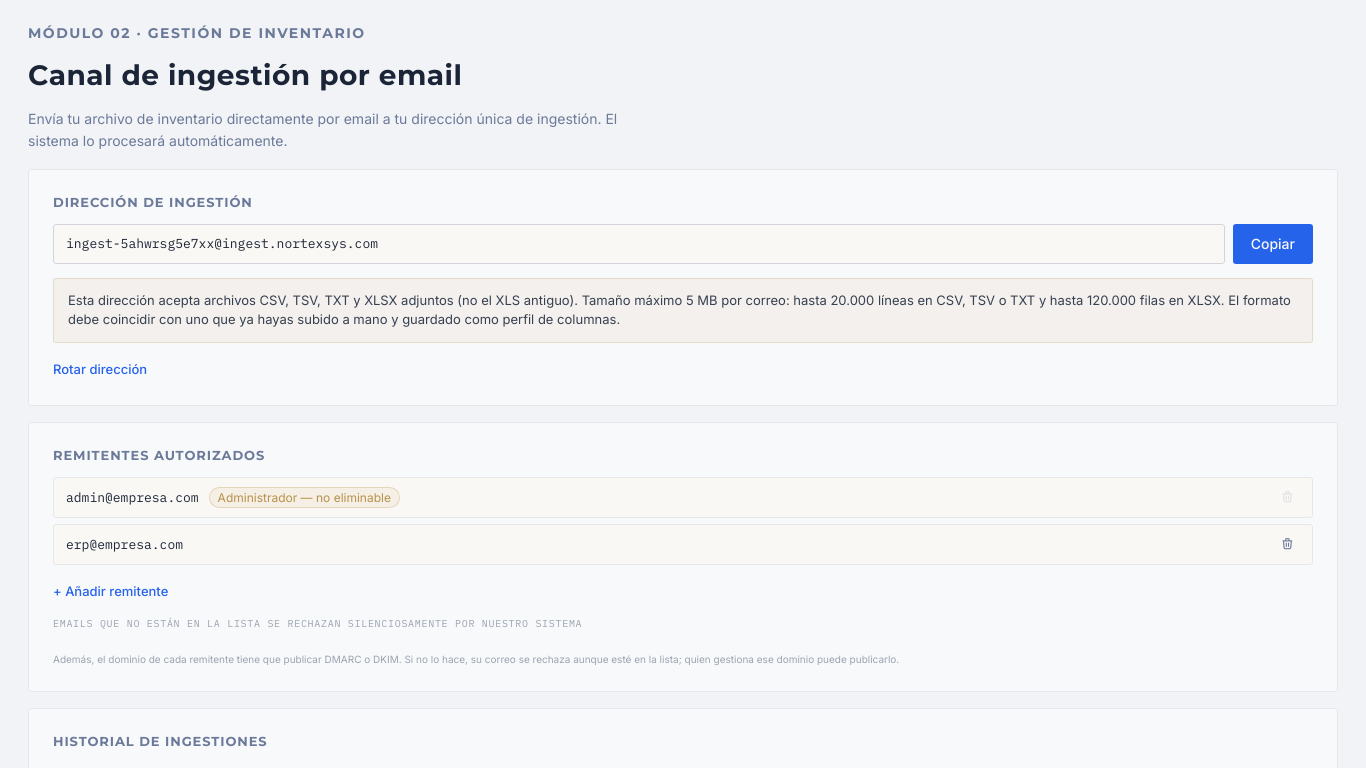
it: INV-04 · IngestChannel › añadir un remitente: valida el formato antes de ir a la red
Expected: the field with test id "ingest-address" is shown, x1=53 y1=224 x2=1225 y2=264
Step 1. Click the button "+ Añadir remitente" → {"x": 111, "y": 591}, box x1=53 y1=579 x2=168 y2=603
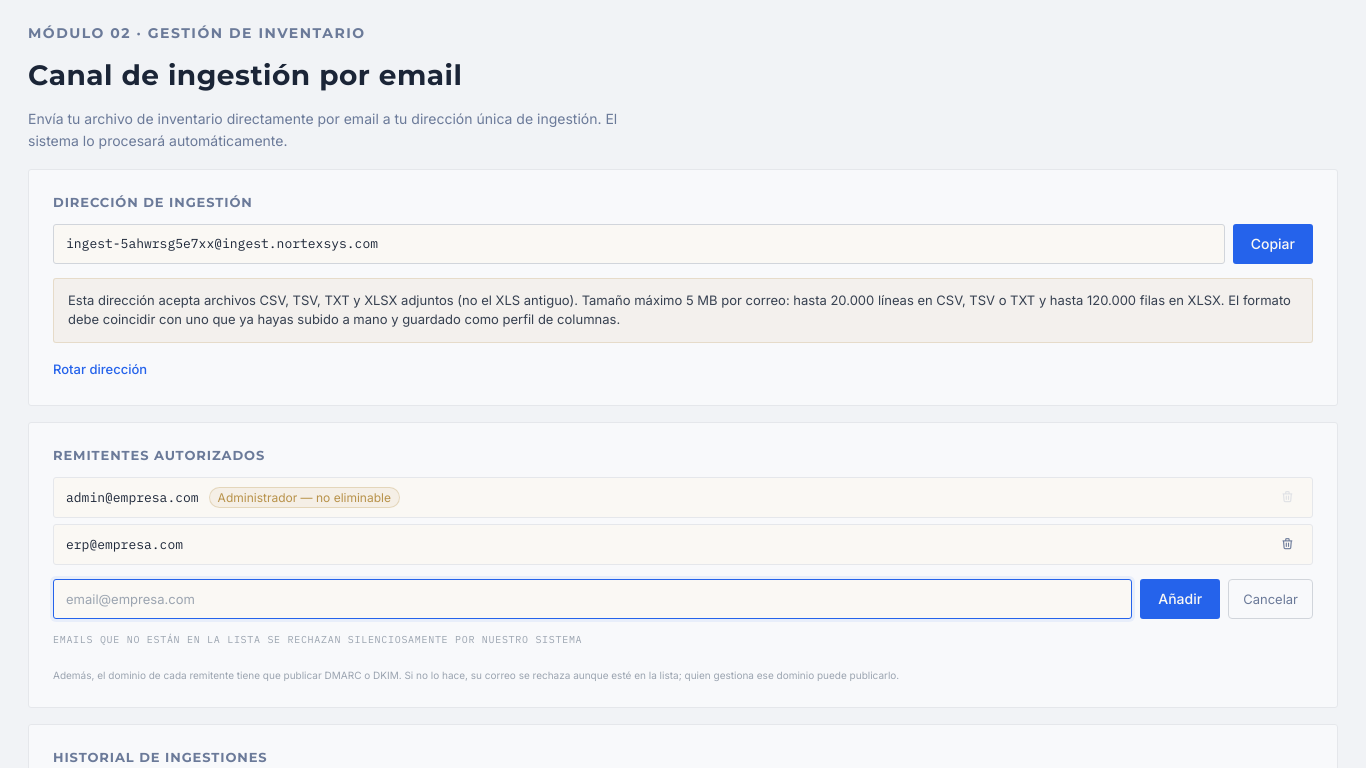
Step 2. Type "esto-no-es-un-email" into the field named "Email del remitente" → {"x": 593, "y": 599}, box x1=53 y1=579 x2=1132 y2=619
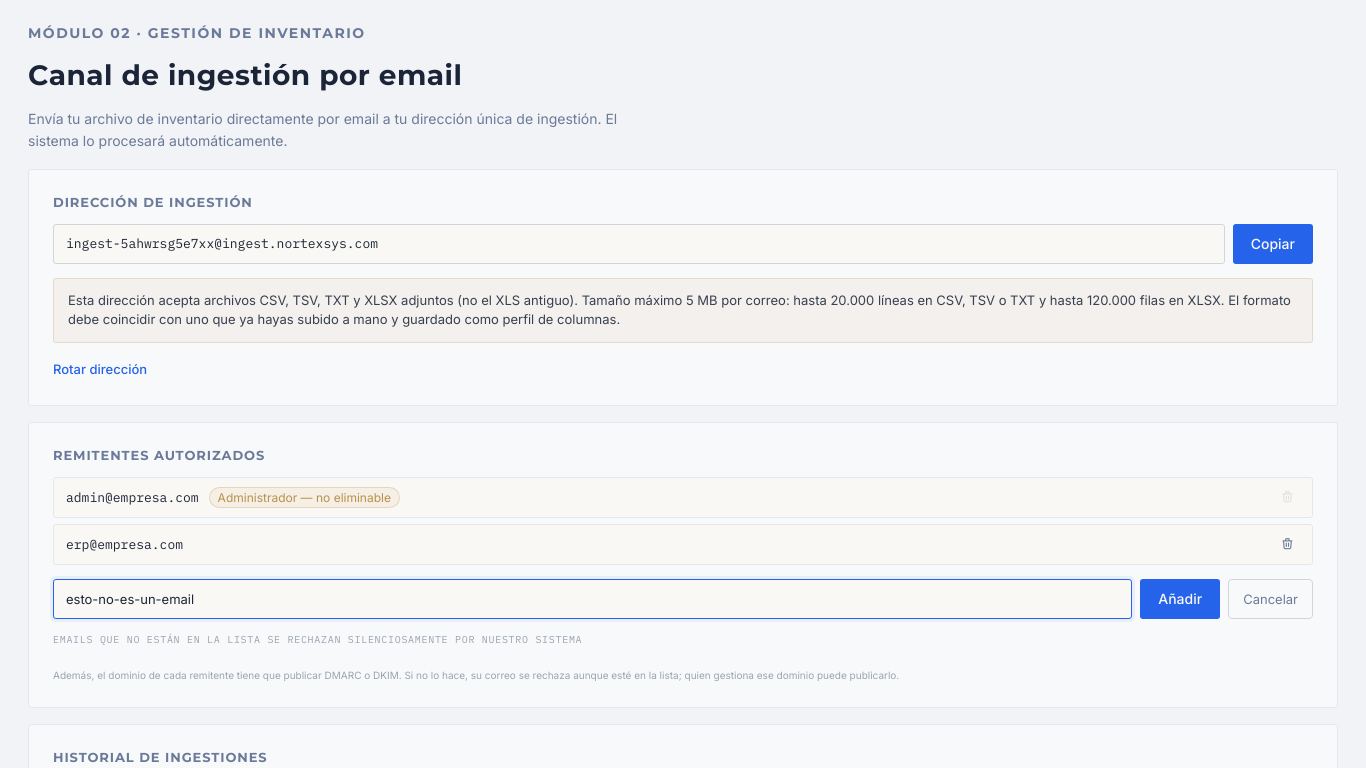
Step 3. Click the button "Añadir" → {"x": 1180, "y": 599}, box x1=1140 y1=579 x2=1220 y2=619
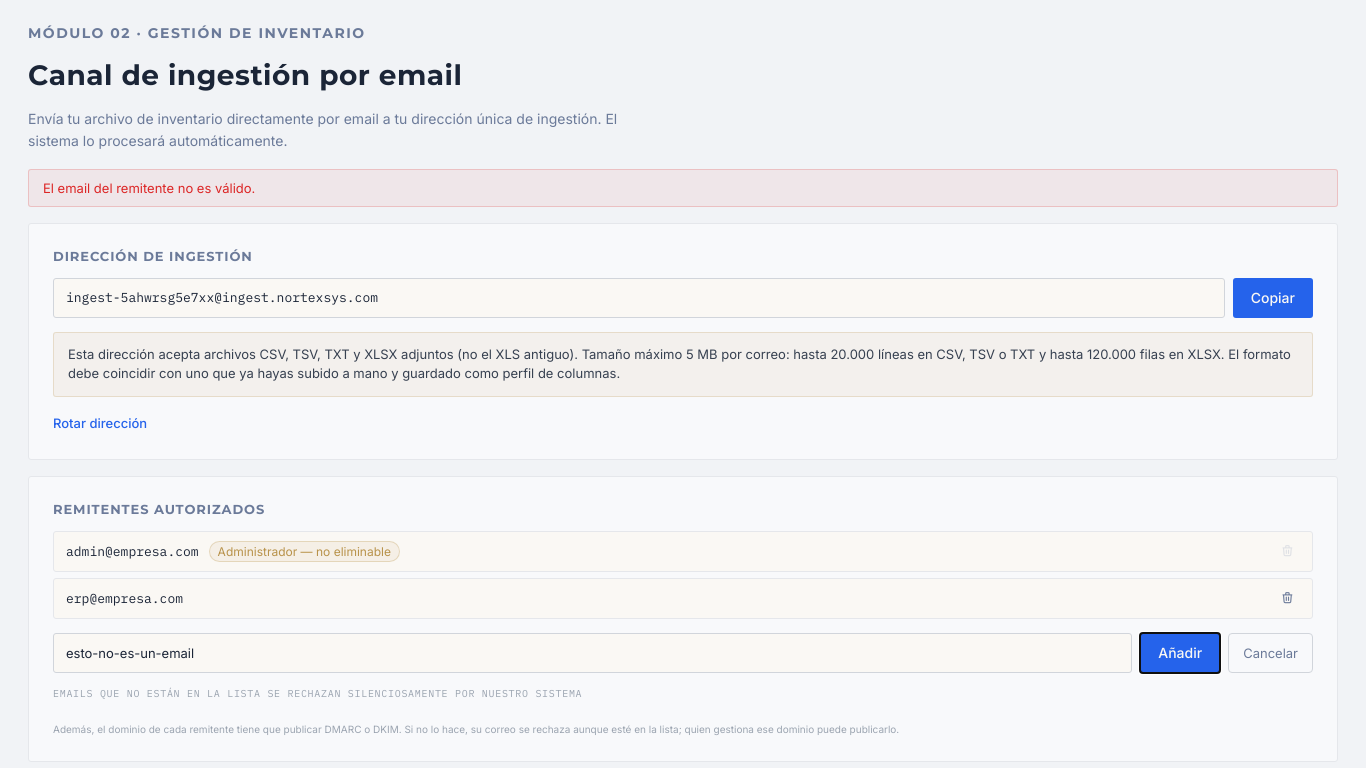
Expected: the message reads "El email del remitente no es válido.", x1=43 y1=180 x2=255 y2=196
